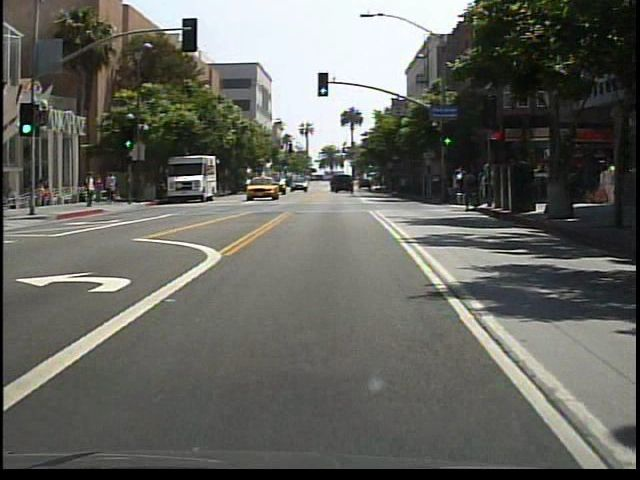person: (104, 170, 121, 206), (85, 172, 99, 210), (94, 175, 107, 205), (43, 180, 53, 207)
